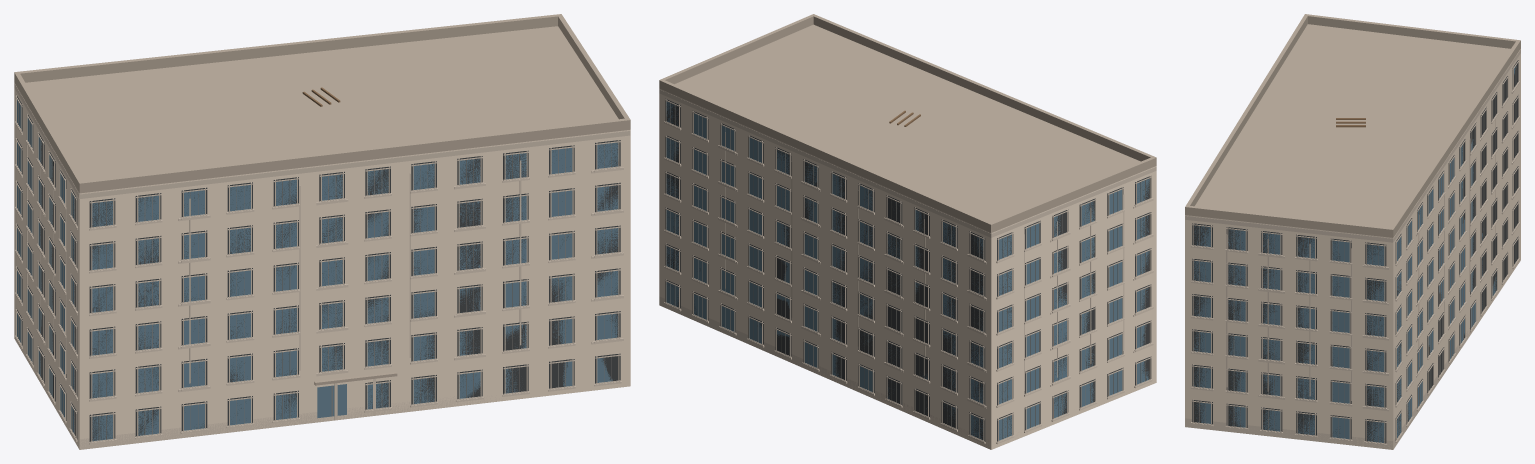
File: cop_predio_historico_05__way_42432240.fbx
The picture shows the model from 3 angles, left to right: view 1: azimuth 30°, elevation 25°; view 2: azimuth 150°, elevation 25°; view 3: azimuth 270°, elevation 25°; orthographic projection. The views are drawn at different scales.
Parts seen in each view (by area): view 1: cop_predio_historico_05__way_42432240_wall, cop_predio_historico_05__way_42432240_roof, cop_predio_historico_05__way_42432240_glass, cop_predio_historico_05__way_42432240_shadow, cop_predio_historico_05__way_42432240_trim, cop_predio_historico_05__way_42432240_stone, cop_predio_historico_05__way_42432240_metal; view 2: cop_predio_historico_05__way_42432240_wall, cop_predio_historico_05__way_42432240_roof, cop_predio_historico_05__way_42432240_glass, cop_predio_historico_05__way_42432240_shadow, cop_predio_historico_05__way_42432240_trim, cop_predio_historico_05__way_42432240_stone, cop_predio_historico_05__way_42432240_metal; view 3: cop_predio_historico_05__way_42432240_roof, cop_predio_historico_05__way_42432240_wall, cop_predio_historico_05__way_42432240_glass, cop_predio_historico_05__way_42432240_shadow, cop_predio_historico_05__way_42432240_trim, cop_predio_historico_05__way_42432240_stone, cop_predio_historico_05__way_42432240_metal.
Part boxes in pixels (bbox=[...]): cop_predio_historico_05__way_42432240_wall: bbox=[14, 82, 630, 449]; cop_predio_historico_05__way_42432240_roof: bbox=[14, 14, 630, 385]; cop_predio_historico_05__way_42432240_glass: bbox=[17, 99, 618, 441]; cop_predio_historico_05__way_42432240_shadow: bbox=[16, 96, 620, 441]; cop_predio_historico_05__way_42432240_trim: bbox=[14, 83, 630, 442]; cop_predio_historico_05__way_42432240_stone: bbox=[15, 121, 629, 449]; cop_predio_historico_05__way_42432240_metal: bbox=[18, 101, 611, 440]; cop_predio_historico_05__way_42432240_wall: bbox=[659, 88, 1156, 449]; cop_predio_historico_05__way_42432240_roof: bbox=[659, 14, 1156, 232]; cop_predio_historico_05__way_42432240_glass: bbox=[666, 101, 1149, 440]; cop_predio_historico_05__way_42432240_shadow: bbox=[665, 98, 1151, 441]; cop_predio_historico_05__way_42432240_trim: bbox=[659, 89, 1156, 442]; cop_predio_historico_05__way_42432240_stone: bbox=[659, 121, 1153, 449]; cop_predio_historico_05__way_42432240_metal: bbox=[670, 103, 1145, 438]; cop_predio_historico_05__way_42432240_roof: bbox=[1185, 14, 1520, 237]; cop_predio_historico_05__way_42432240_wall: bbox=[1185, 49, 1520, 449]; cop_predio_historico_05__way_42432240_glass: bbox=[1193, 66, 1516, 442]; cop_predio_historico_05__way_42432240_shadow: bbox=[1192, 60, 1518, 443]; cop_predio_historico_05__way_42432240_trim: bbox=[1185, 49, 1520, 443]; cop_predio_historico_05__way_42432240_stone: bbox=[1185, 81, 1519, 449]; cop_predio_historico_05__way_42432240_metal: bbox=[1199, 65, 1516, 442].
Size of the model in its own units: 3930 by 1877 by 2583.
